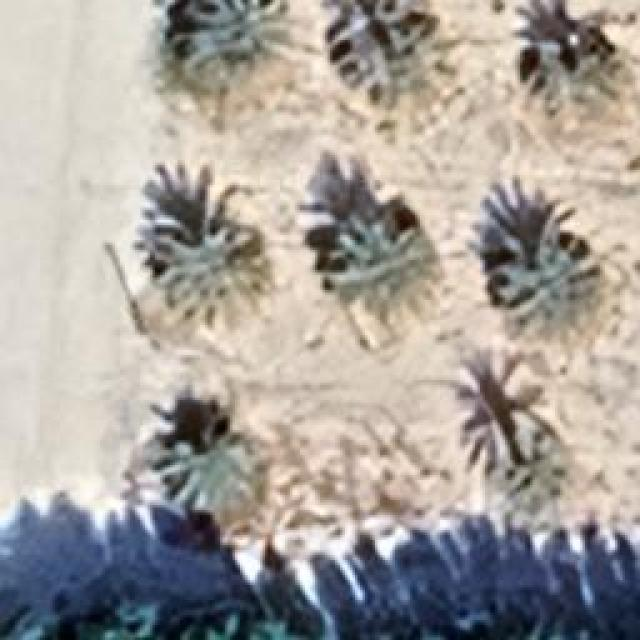PalmTree: (490, 225, 598, 353), (320, 0, 455, 100), (150, 220, 272, 330), (332, 215, 440, 325), (491, 425, 589, 540), (532, 14, 618, 128), (158, 428, 252, 532), (190, 0, 275, 85)
